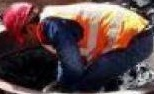boots: (0, 81, 24, 94), (0, 84, 22, 94)
hard-hat: (1, 2, 34, 44)
vest: (0, 0, 50, 47)
